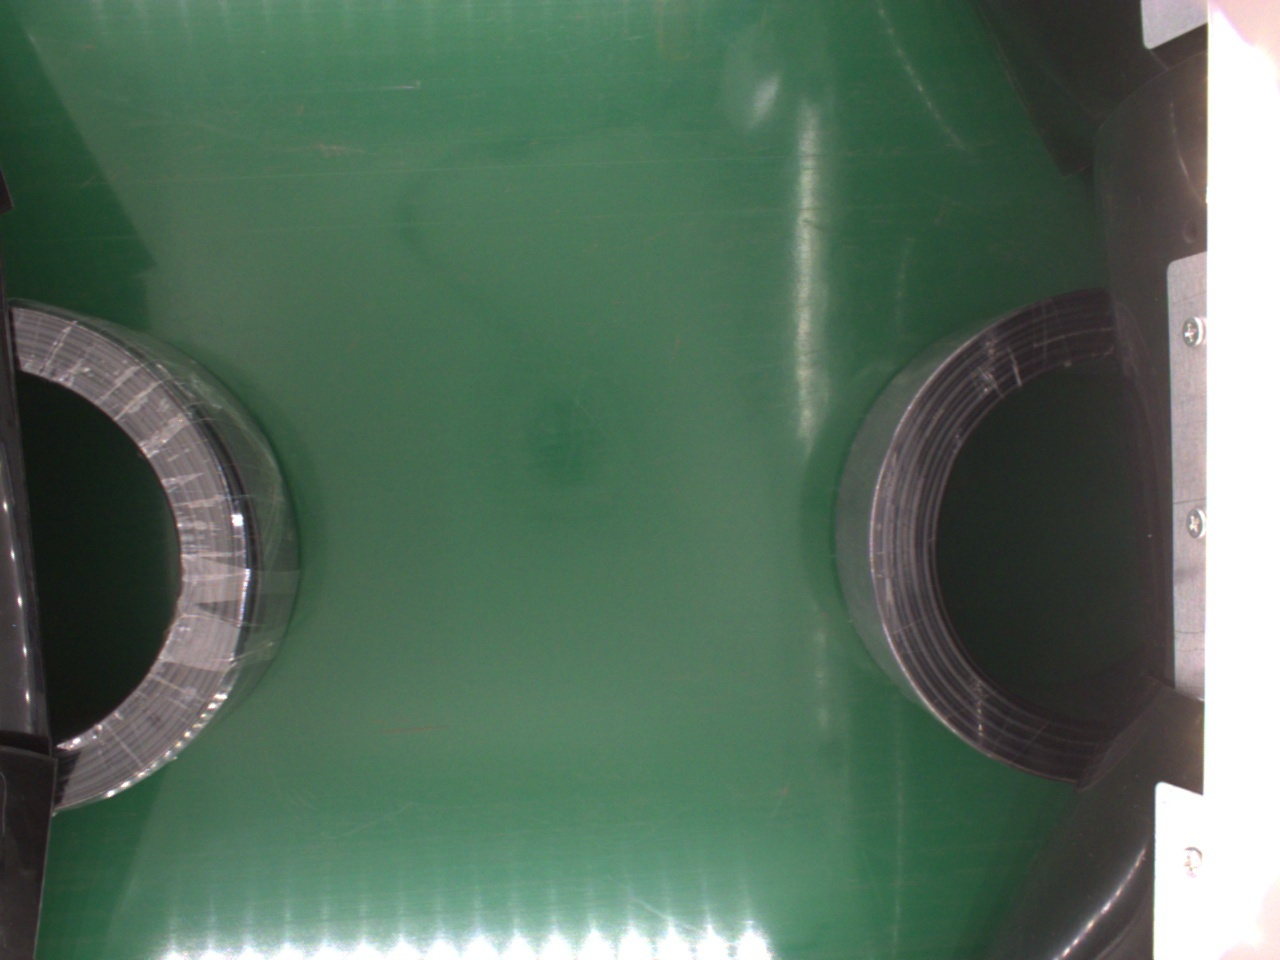black: (837, 284, 1139, 781), (14, 297, 298, 812)
